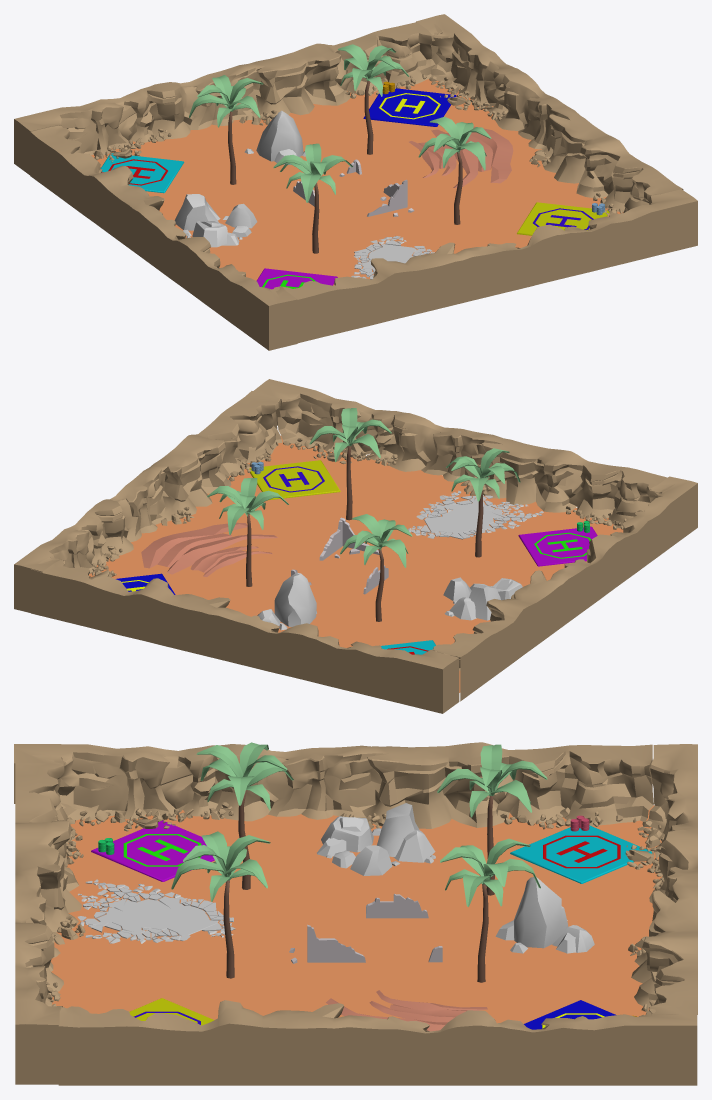
Rendered from dessert.fbx.
3 views of the same model, one above another, from view 1: azimuth 30°, elevation 25°; view 2: azimuth 150°, elevation 25°; view 3: azimuth 270°, elevation 25° (orthographic). The views are drawn at different scales.
Visible parts, largest first — view 1: Cube.001, Cliff.001, Cliff, Cliff.003, Cliff.002, Dunes01, Rocks01, Born_Yellow, PalmTree01.002, PalmTree01.003, PalmTree01.001, PalmTree01 (+6 smaller); view 2: Cube.001, Cliff, Cliff.001, Cliff.002, Cliff.003, Dunes01, Tarmac, Born_Blue, Born_Green, Rocks01, PalmTree01, Rocks02 (+4 smaller); view 3: Cube.001, Cliff.002, Cliff.003, Cliff.001, Cliff, Tarmac, Rocks01, Born_Red, Rocks02, Born_Green, PalmTree01.003, PalmTree01 (+6 smaller).
Boxes of the visible parts, x1,y1,x2,y2 form: Cube.001: (91, 79, 623, 285); Cliff.001: (269, 189, 697, 343); Cliff: (14, 22, 442, 175); Cliff.003: (30, 125, 297, 350); Cliff.002: (416, 14, 683, 215); Dunes01: (409, 126, 513, 187); Rocks01: (174, 194, 257, 247); Born_Yellow: (363, 81, 456, 126); PalmTree01.002: (273, 143, 352, 253); PalmTree01.003: (418, 116, 491, 224); PalmTree01.001: (189, 75, 263, 184); PalmTree01: (338, 44, 409, 154); Cube.001: (88, 435, 623, 692); Cliff: (31, 557, 459, 713); Cliff.001: (253, 379, 674, 529); Cliff.002: (14, 391, 282, 612); Cliff.003: (431, 476, 697, 701); Dunes01: (141, 522, 277, 576); Tarmac: (408, 490, 543, 539); Born_Blue: (249, 460, 340, 500); Born_Green: (518, 521, 597, 566); Rocks01: (443, 577, 522, 620); PalmTree01: (207, 478, 288, 586); Rocks02: (257, 572, 316, 630); Cube.001: (50, 805, 662, 1023); Cliff.002: (58, 1000, 697, 1085); Cliff.003: (14, 742, 653, 831); Cliff.001: (15, 755, 85, 1084); Cliff: (625, 744, 697, 1015); Tarmac: (77, 879, 235, 943); Rocks01: (317, 803, 435, 875); Born_Red: (510, 815, 651, 883); Rocks02: (495, 877, 594, 953); Born_Green: (91, 820, 214, 881); PalmTree01.003: (171, 831, 270, 978); PalmTree01: (440, 838, 540, 982).
Bounding box in the file's own units: 2671 × 657 × 2742.
